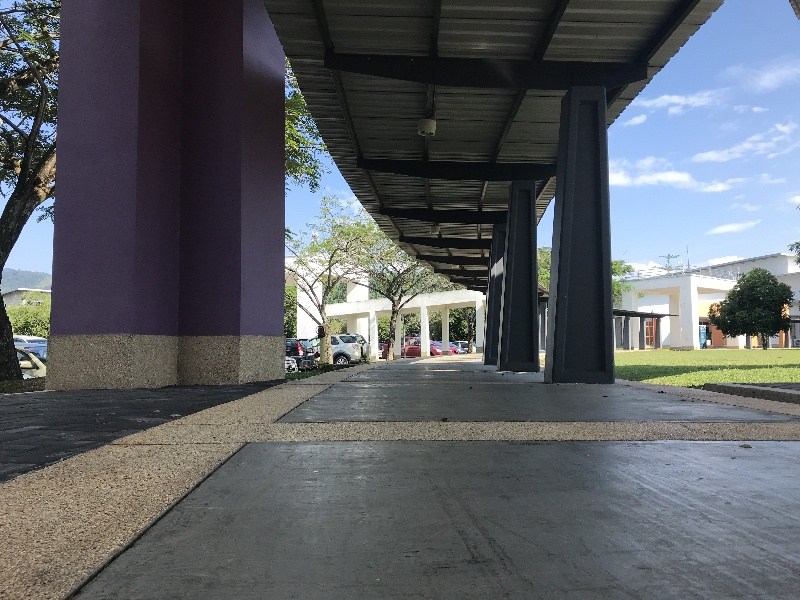Block D Pillar 6: (7, 7, 794, 518)
pillar: (52, 5, 297, 386), (548, 82, 616, 397), (476, 166, 538, 386)
